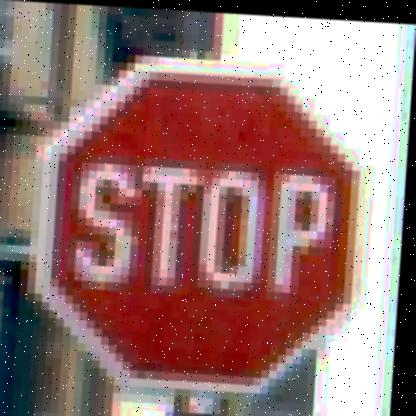Stop Sign: (30, 45, 378, 399)
